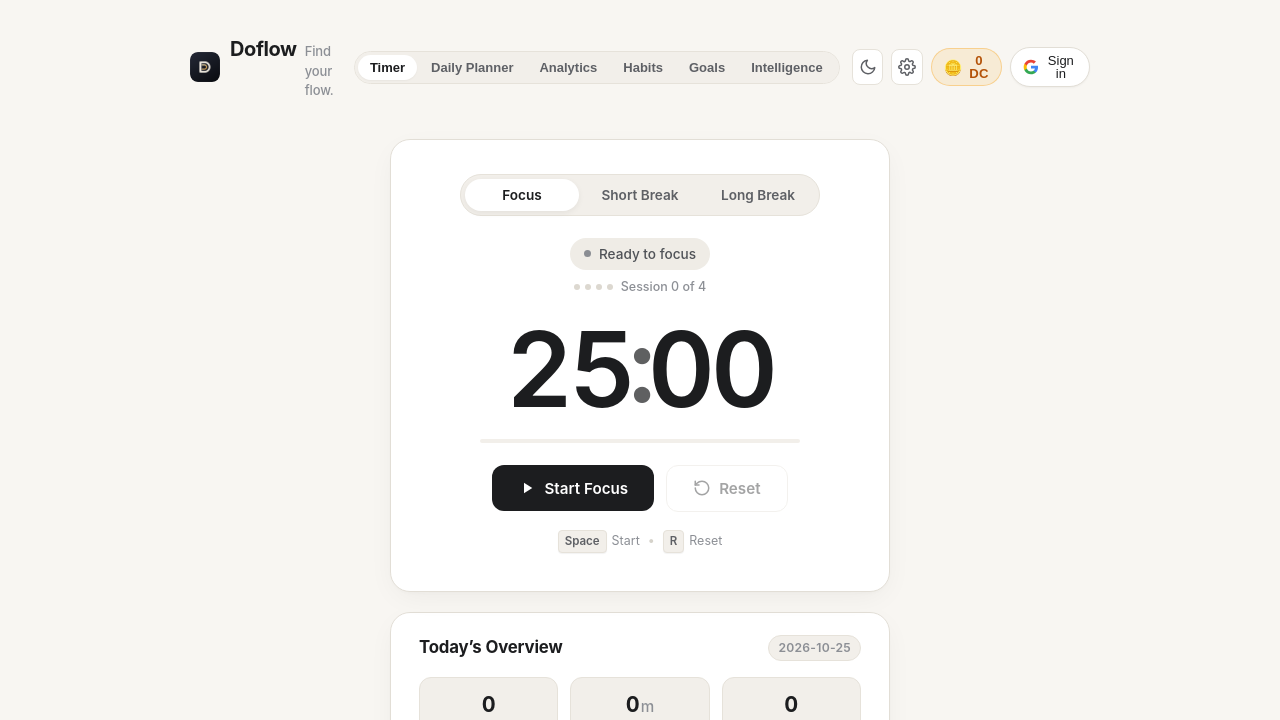
FEATURE 4: Daily Productivity Statistics › counts a focus session only when it reaches zero and records exact duration
This screenshot has width=1280, height=720.
Click the button with test id "start-button". click: (573, 488)
box: [492,465,654,511]
Wait 1510000 ms
(page scrolled)
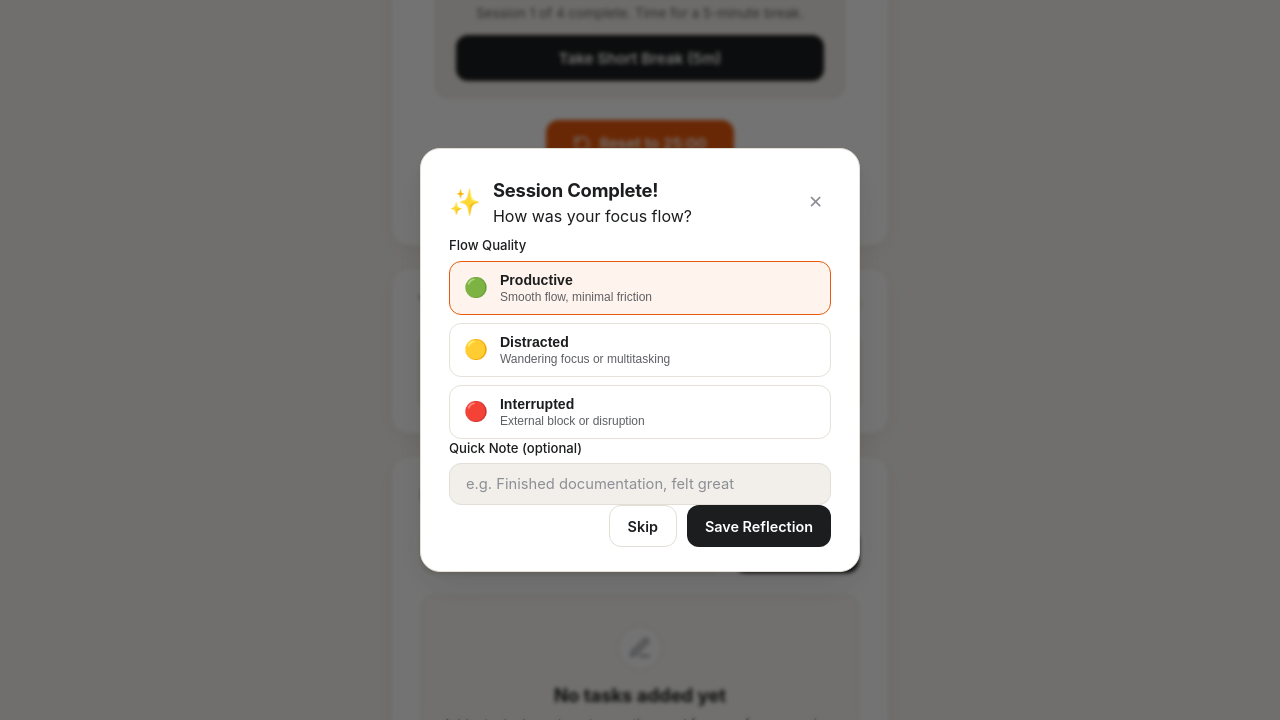
Now the text with test id "stat-focus-sessions-value" reads "1", box [482,347,496,373]
Now the element with test id "stat-focus-time-value" reads "25m", box [619,348,661,374]
